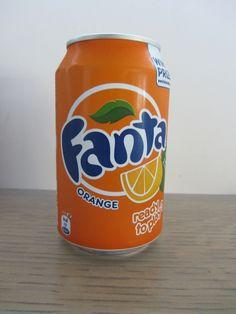metal: (56, 34, 170, 252)
